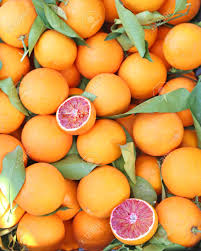orange: (79, 162, 132, 215), (20, 112, 72, 164), (15, 160, 65, 214), (131, 107, 183, 158), (18, 69, 69, 114), (78, 120, 128, 163)
